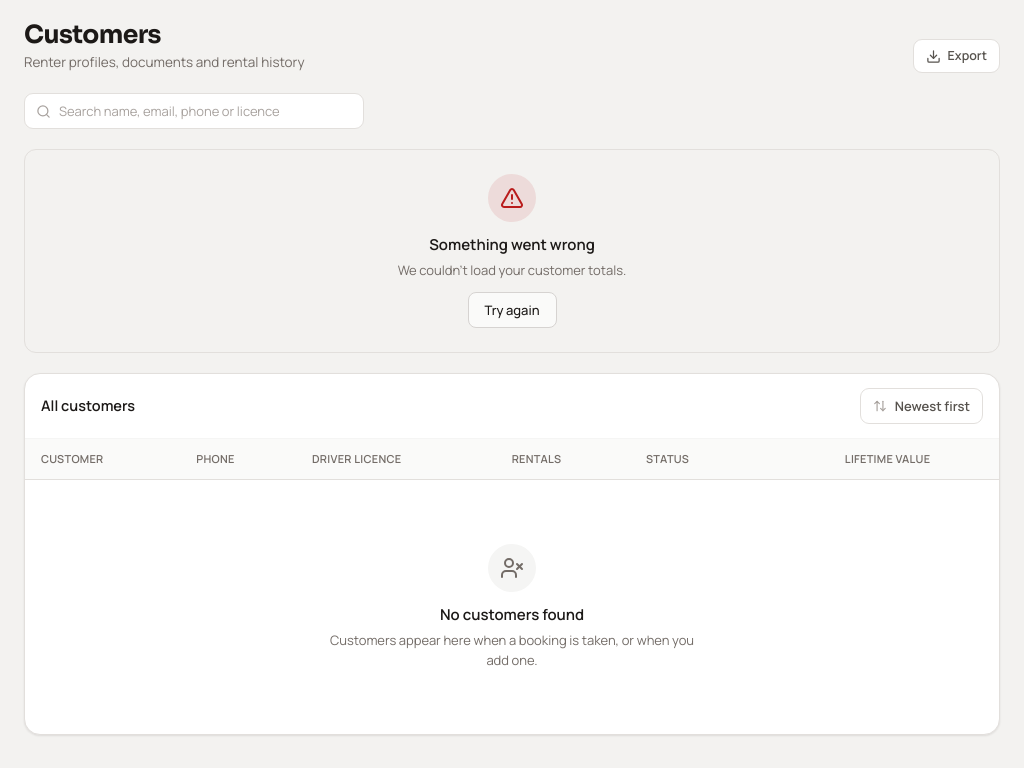
Test case: the customer totals › offer a retry instead of zeros when they fail
The image size is (1024, 768).
Expected: the text "We couldn't load your customer totals." is shown, left=398, top=260, right=626, bottom=280
Click the button "Try again" at (512, 310), box left=468, top=292, right=556, bottom=328
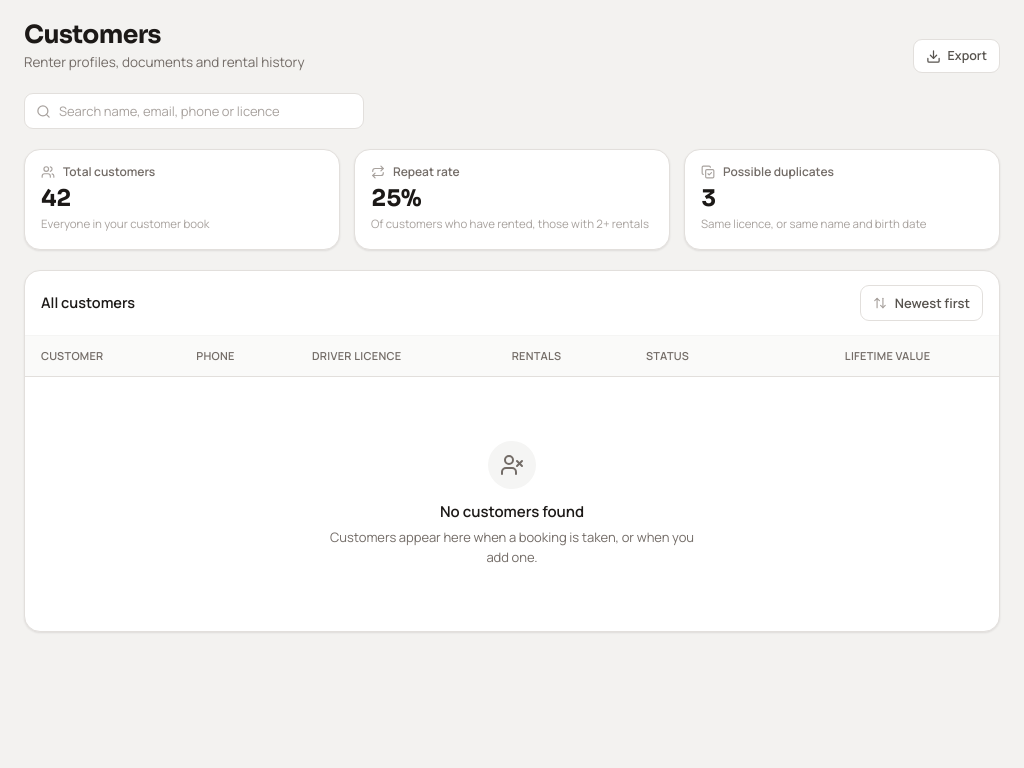
Expected: the text "42" is shown, left=41, top=184, right=71, bottom=213
